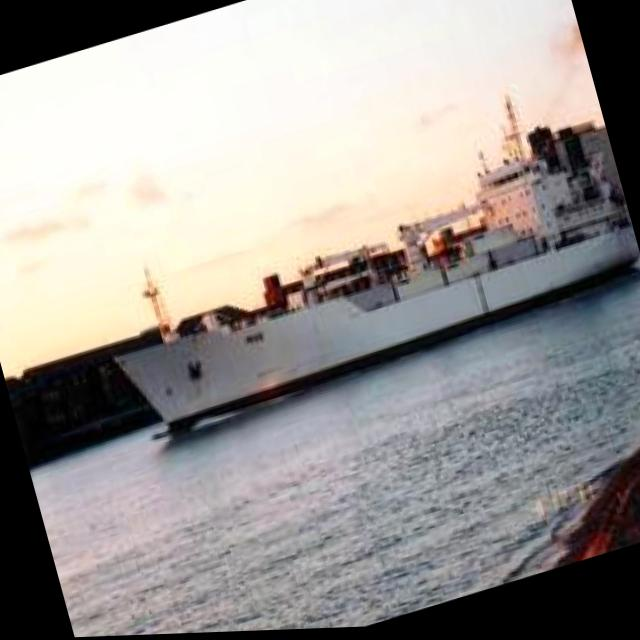ship2: (112, 102, 640, 439)
